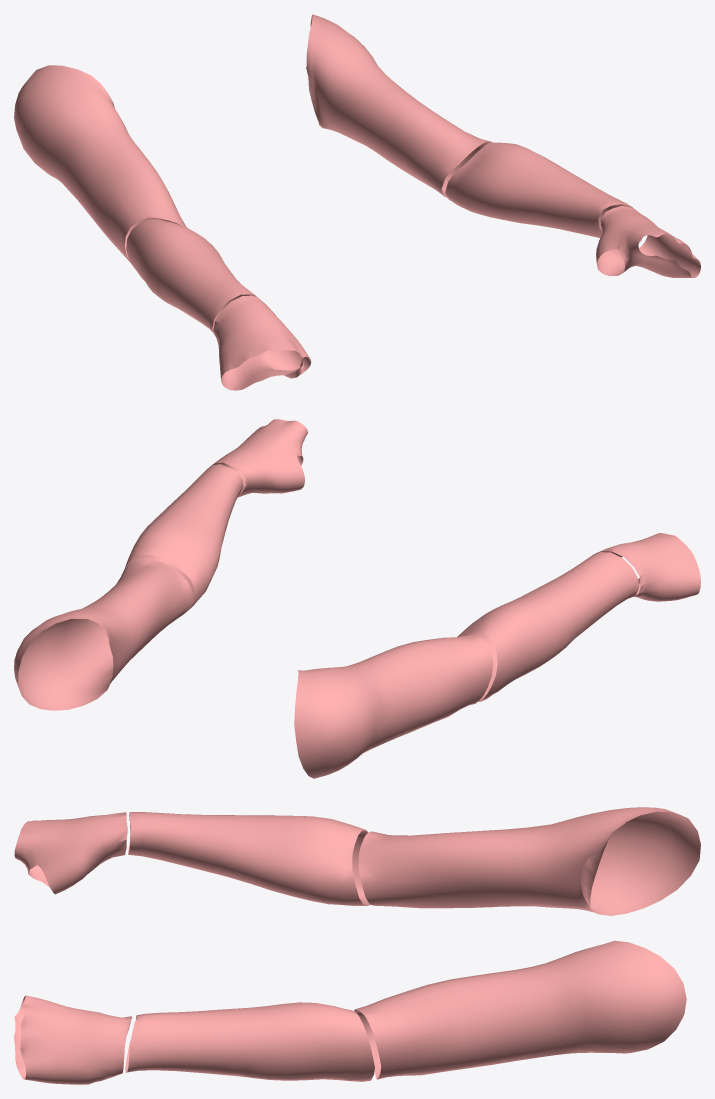
File: GirlColliders.fbx
3 views of the same model, one above another, from view 1: azimuth 30°, elevation 25°; view 2: azimuth 150°, elevation 25°; view 3: azimuth 270°, elevation 25° (orthographic). The views are drawn at different scales.
Visible parts, largest first — view 1: RightArmColiider1, LeftArmColiider3, LeftArmColiider1, RightArmColiider2, RightArmColiider3, LeftArmColiider2; view 2: RightArmColiider1, LeftArmColiider3, RightArmColiider2, LeftArmColiider1, LeftArmColiider2, RightArmColiider3; view 3: LeftArmColiider3, RightArmColiider1, LeftArmColiider1, RightArmColiider2, LeftArmColiider2, RightArmColiider3.
Boxes of the visible parts, x1,y1,x2,y2 form: RightArmColiider1: (14,65,187,264); LeftArmColiider3: (306,14,492,197); LeftArmColiider1: (445,142,642,242); RightArmColiider2: (126,219,256,336); RightArmColiider3: (213,295,311,390); LeftArmColiider2: (596,206,700,277); RightArmColiider1: (294,635,493,778); LeftArmColiider3: (14,558,191,710); RightArmColiider2: (457,552,638,701); LeftArmColiider1: (125,464,243,612); LeftArmColiider2: (212,419,307,497); RightArmColiider3: (595,533,700,601); LeftArmColiider3: (354,940,686,1079); RightArmColiider1: (358,807,700,915); LeftArmColiider1: (125,1002,374,1081); RightArmColiider2: (128,812,370,905); LeftArmColiider2: (14,995,131,1084); RightArmColiider3: (14,812,127,894).
Size of what is drawn, in the model's own units: 56.67 by 12.73 by 66.73.
